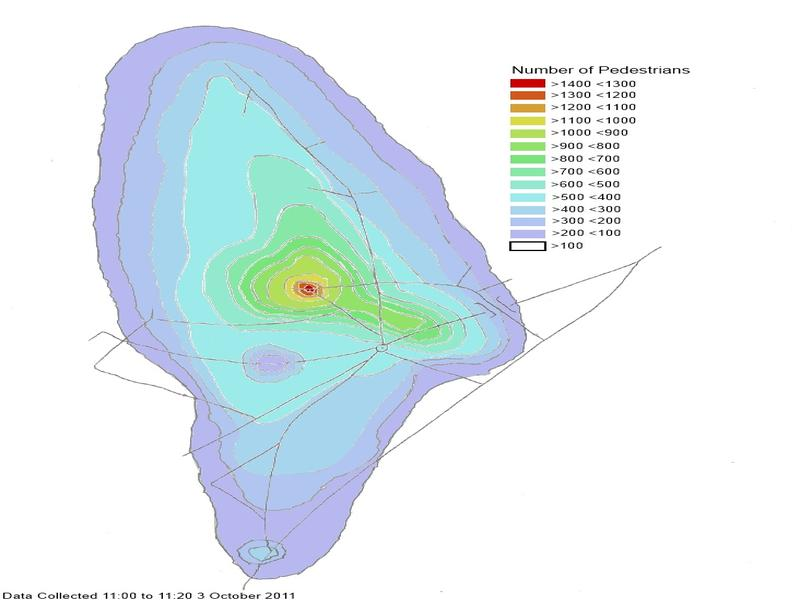legend: (507, 62, 693, 254)
